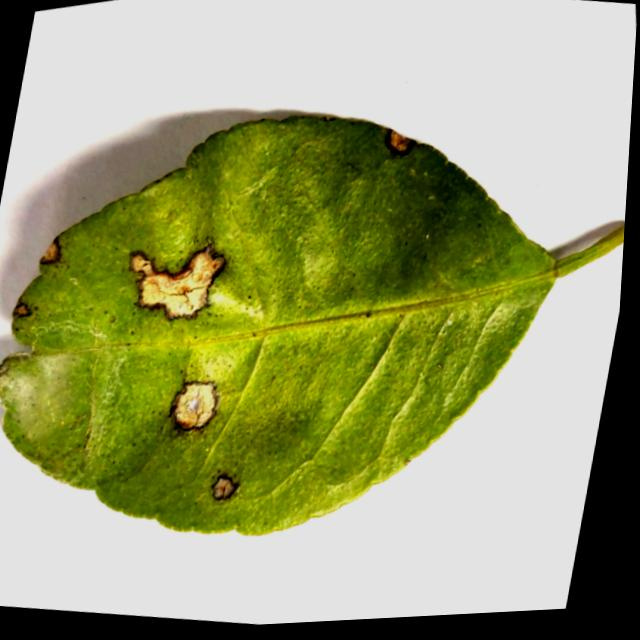antracnose: (0, 116, 625, 533), (131, 244, 224, 319), (171, 381, 217, 429), (386, 130, 415, 154), (213, 475, 238, 500), (39, 239, 59, 263)
